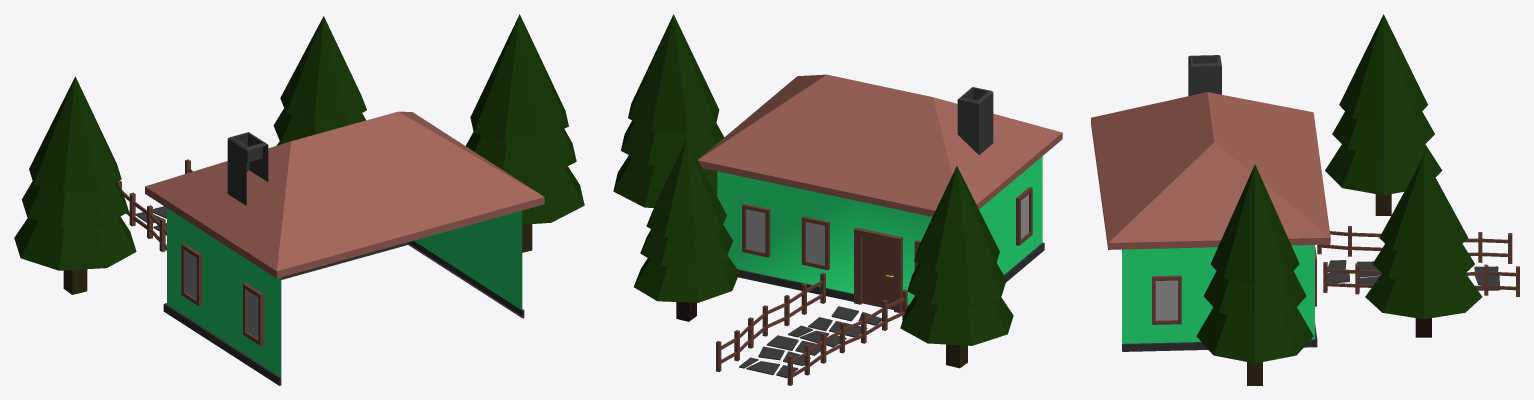
File: revampedHouseVar4.fbx
The picture shows the model from 3 angles, left to right: view 1: azimuth 30°, elevation 25°; view 2: azimuth 150°, elevation 25°; view 3: azimuth 270°, elevation 25°; orthographic projection. The views are drawn at different scales.
Parts seen in each view (by area): view 1: Roof, Tree1, Walls, Tree3, Tree2, WallFrame, Chimney, WindowFrames, Window, FenceRight; view 2: Roof, Walls, Tree1, Tree3, Tree2, Door, WindowFrames, Chimney, FenceRight, FenceLeft, Window, WallFrame (+6 smaller); view 3: Roof, Tree3, Tree1, Tree2, Walls, Chimney, FenceLeft, FenceRight, Window, WallFrame, WindowFrames, Stone1 (+2 smaller).
Part boxes in pixels (x1,y1,x2,y2): Roof: (145,111,544,278); Tree1: (14,76,136,294); Walls: (167,208,522,377); Tree3: (466,14,584,252); Tree2: (273,16,366,145); WallFrame: (163,240,524,385); Chimney: (227,132,268,205); WindowFrames: (181,243,263,345); Window: (185,251,258,338); FenceRight: (117,180,166,252); Roof: (698,74,1062,216); Walls: (717,156,1042,305); Tree1: (900,166,1013,368); Tree3: (613,14,724,207); Tree2: (634,139,739,321); Door: (854,227,902,312); WindowFrames: (742,187,1032,270); Chimney: (957,87,993,154); FenceRight: (787,289,907,385); FenceLeft: (716,272,825,371); Window: (746,194,1028,264); WallFrame: (737,242,1044,311); Roof: (1091,92,1330,249); Tree3: (1196,164,1313,385); Tree1: (1325,14,1442,215); Tree2: (1365,156,1482,337); Walls: (1122,245,1314,343); Chimney: (1188,55,1221,95); FenceLeft: (1323,262,1519,296); FenceRight: (1317,226,1512,263); Window: (1155,280,1177,320); WallFrame: (1122,323,1317,351); WindowFrames: (1152,247,1316,324); Stone1: (1327,260,1349,282).
Bounding box in the file's own units: 654 × 300 × 534.
